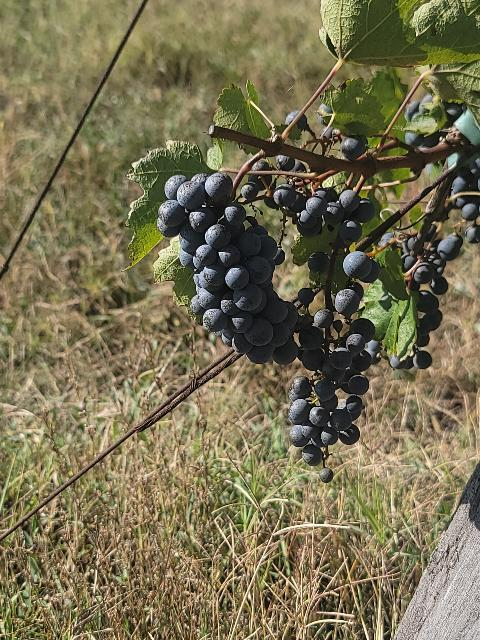grapes: (158, 172, 298, 364), (289, 251, 380, 482), (390, 225, 462, 369), (272, 184, 375, 246), (308, 251, 330, 281)
